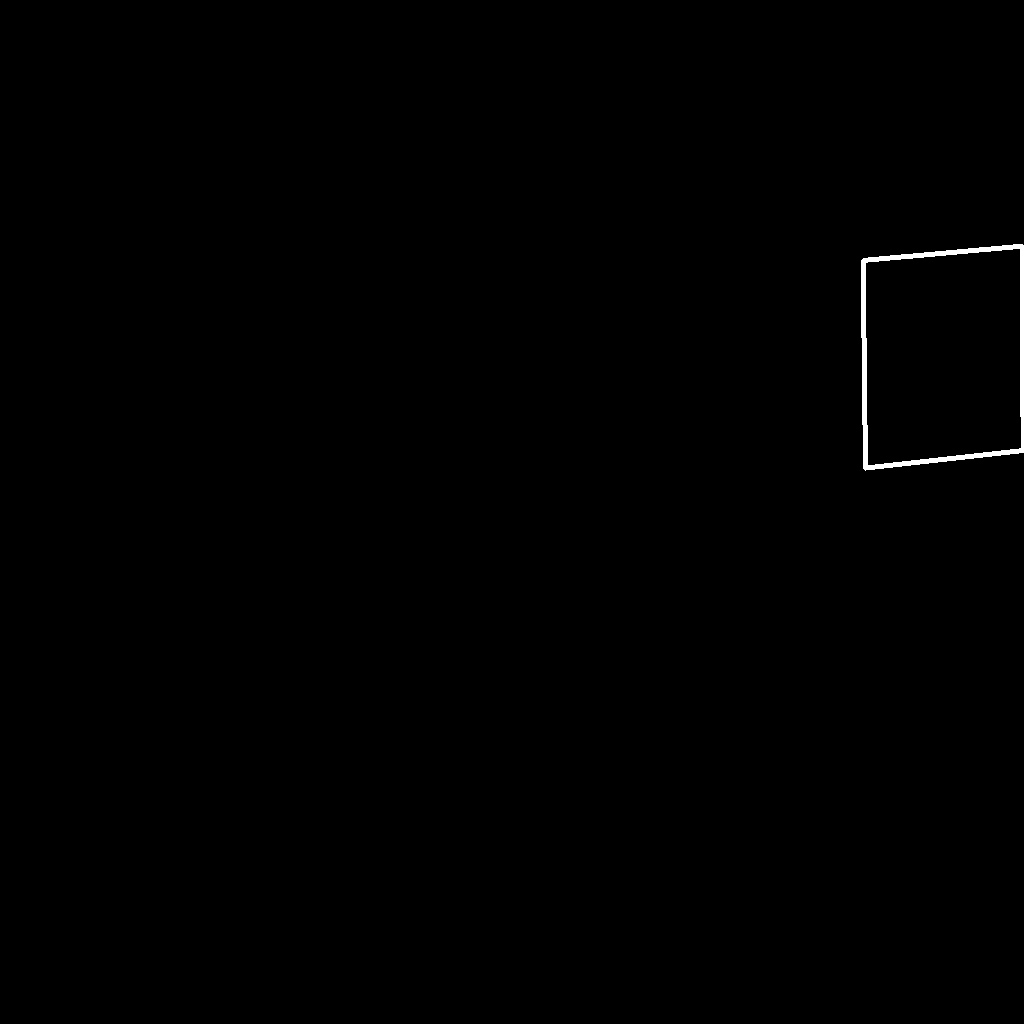building: (863, 246, 1024, 469)
